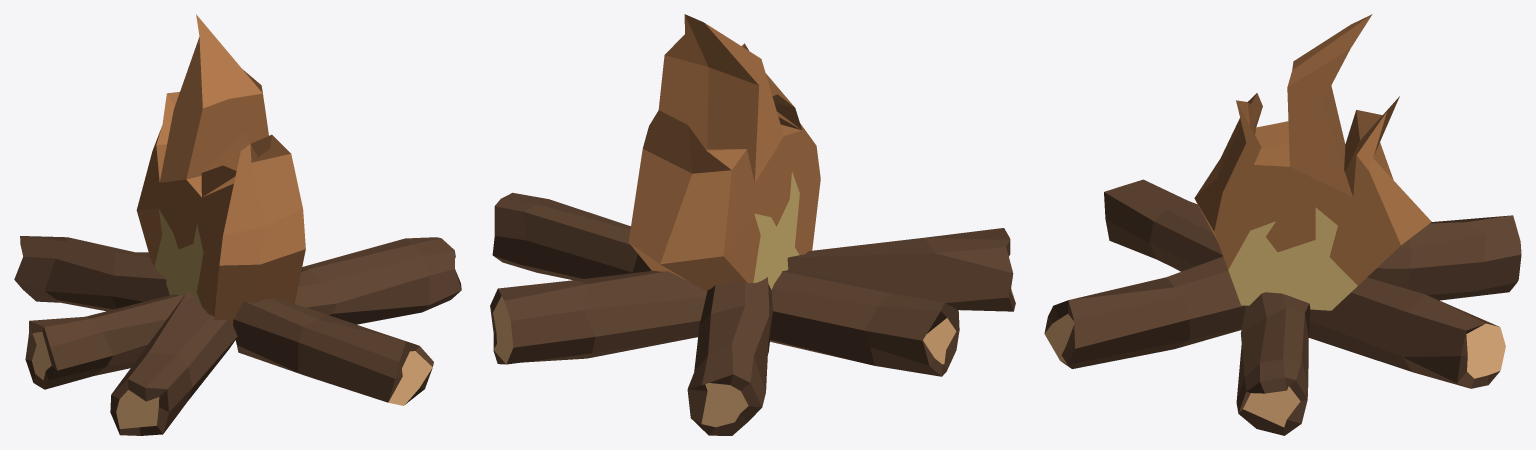
File: cc_bonfire1.fbx
3 renders of one model, left to right at view 1: azimuth 30°, elevation 25°; view 2: azimuth 150°, elevation 25°; view 3: azimuth 270°, elevation 25°, orthographic. The views are drawn at different scales.
Visible parts, largest first — view 1: Cylinder; view 2: Cylinder; view 3: Cylinder.
Part boxes in pixels (x1,y1,x2,y2): Cylinder: (14, 14, 461, 435); Cylinder: (490, 14, 1015, 435); Cylinder: (1044, 14, 1521, 435).
Bounding box in the file's own units: 358 × 257 × 343.
